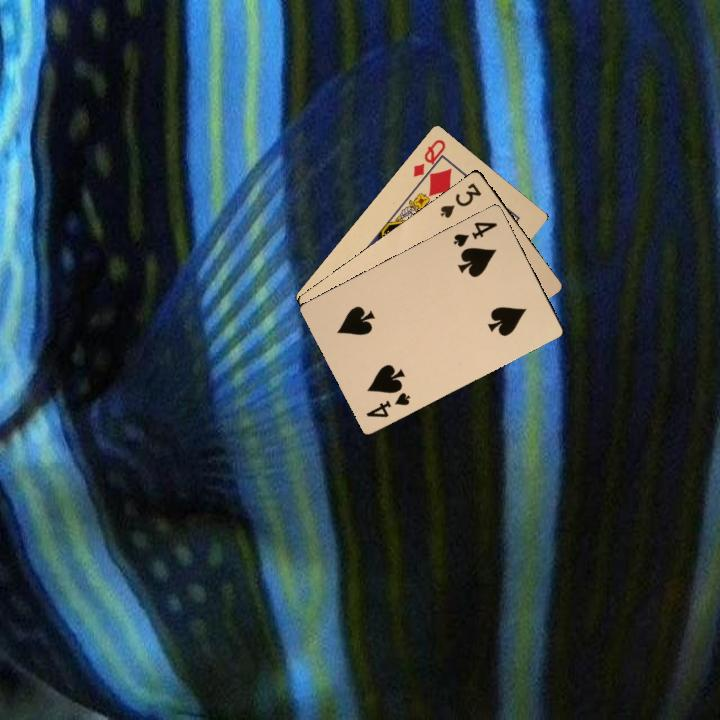3s: (436, 179, 484, 221)
4s: (449, 218, 500, 250), (362, 388, 413, 420)
Qd: (409, 135, 448, 187)
